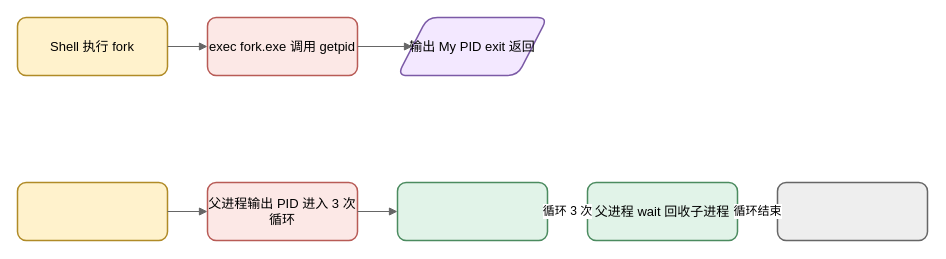
Some shapes in this 946 by 259 pixel diagram are drawn without their labels. The shapes that lost their labels are listed below. From the top down, each one's centre as x and y in pixels, then its label:
At pixel 92 211: "Shell 执行 forks".
At pixel 472 211: "每轮 fork 子进程打印 PID".
At pixel 852 211: "多行 PID 输出完成 返回 Shell".
